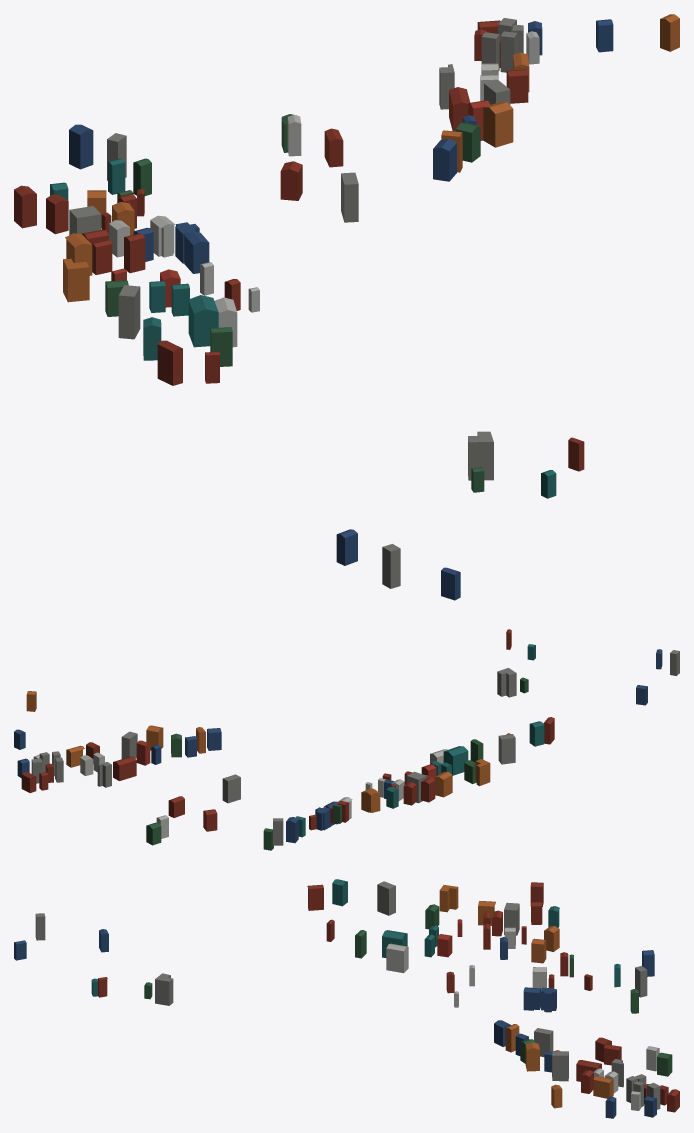
The model's file is near-15-27369-14873.cb22b628.glb.
3 renders of one model, top to bottom at view 1: azimuth 30°, elevation 25°; view 2: azimuth 150°, elevation 25°; view 3: azimuth 270°, elevation 25°, orthographic. The views are drawn at different scales.
Bounding box in the file's own units: 465 × 77.58 × 601.
